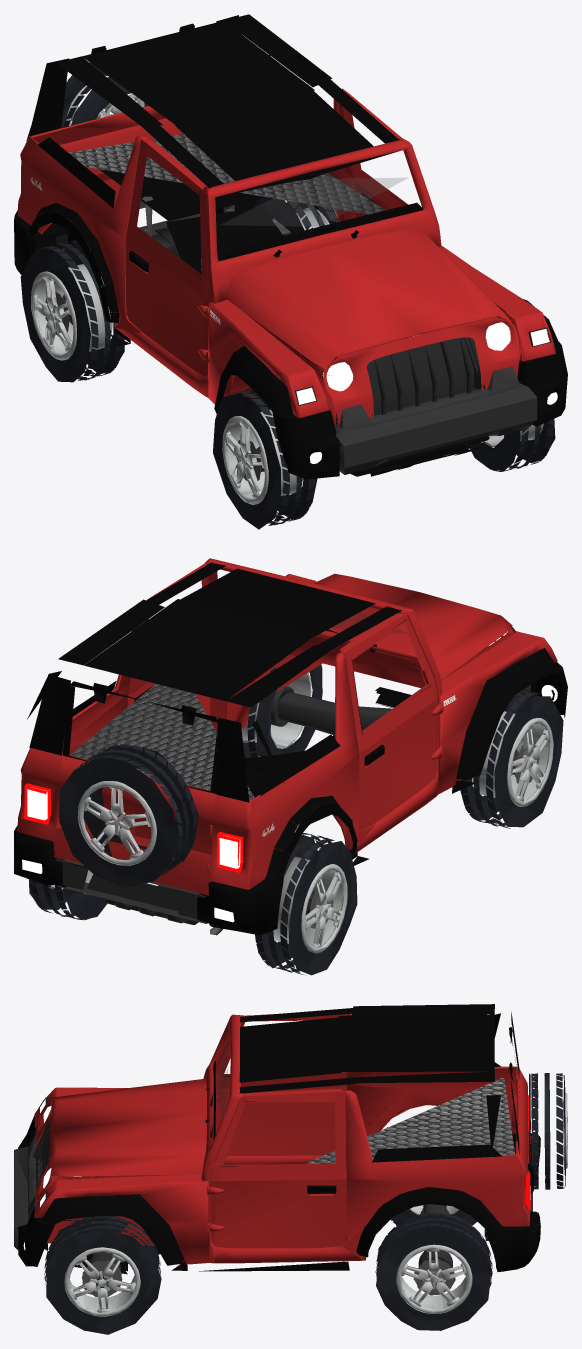
Rendered from thar.glb.
3 renders of one model, top to bottom at view 1: azimuth 30°, elevation 25°; view 2: azimuth 150°, elevation 25°; view 3: azimuth 270°, elevation 25°, orthographic. The views are drawn at different scales.
Parts seen in each view (by area): view 1: Object_20, Object_16, Object_41, Object_31, Object_18, Object_45, Object_34, Object_25, Object_4, Object_42, Object_47, Object_44 (+9 smaller); view 2: Object_20, Object_31, Object_41, Object_34, Object_18, Object_16, Object_42, Object_47, Object_4, Object_27, Object_22, Object_23 (+7 smaller); view 3: Object_20, Object_41, Object_18, Object_31, Object_16, Object_34, Object_47, Object_5, Object_42, Object_45, Object_49, Object_38 (+5 smaller).
Boxes of the visible parts, box(x1,y1,x2,y2) form: Object_20: box(14, 14, 567, 479); Object_16: box(227, 229, 511, 368); Object_41: box(17, 99, 441, 397); Object_31: box(20, 62, 555, 529); Object_18: box(125, 88, 423, 376); Object_45: box(335, 367, 537, 474); Object_34: box(31, 75, 543, 504); Object_25: box(99, 169, 472, 476); Object_4: box(208, 299, 331, 418); Object_42: box(68, 134, 385, 214); Object_47: box(28, 203, 558, 415); Object_44: box(323, 317, 519, 426); Object_20: box(14, 562, 567, 934); Object_31: box(29, 655, 563, 975); Object_41: box(17, 558, 442, 895); Object_34: box(48, 672, 553, 953); Object_18: box(126, 563, 443, 874); Object_16: box(314, 573, 512, 684); Object_42: box(70, 684, 254, 799); Object_47: box(265, 648, 558, 879); Object_4: box(438, 631, 557, 794); Object_27: box(55, 755, 215, 894); Object_22: box(55, 858, 207, 923); Object_23: box(173, 686, 518, 915); Object_20: box(18, 1004, 540, 1272); Object_41: box(201, 1013, 530, 1263); Object_18: box(206, 1014, 531, 1248); Object_31: box(44, 1073, 565, 1334); Object_16: box(50, 1078, 206, 1176); Object_34: box(64, 1093, 567, 1316); Object_47: box(42, 1108, 503, 1265); Object_5: box(34, 1174, 209, 1264); Object_42: box(304, 1078, 514, 1173); Object_45: box(14, 1134, 39, 1249); Object_49: box(82, 1259, 455, 1297); Object_38: box(38, 1116, 201, 1245).
Bounding box in the file's own units: 14.51 × 13.66 × 28.9.
Materials: 36 (15 with a texture image).
